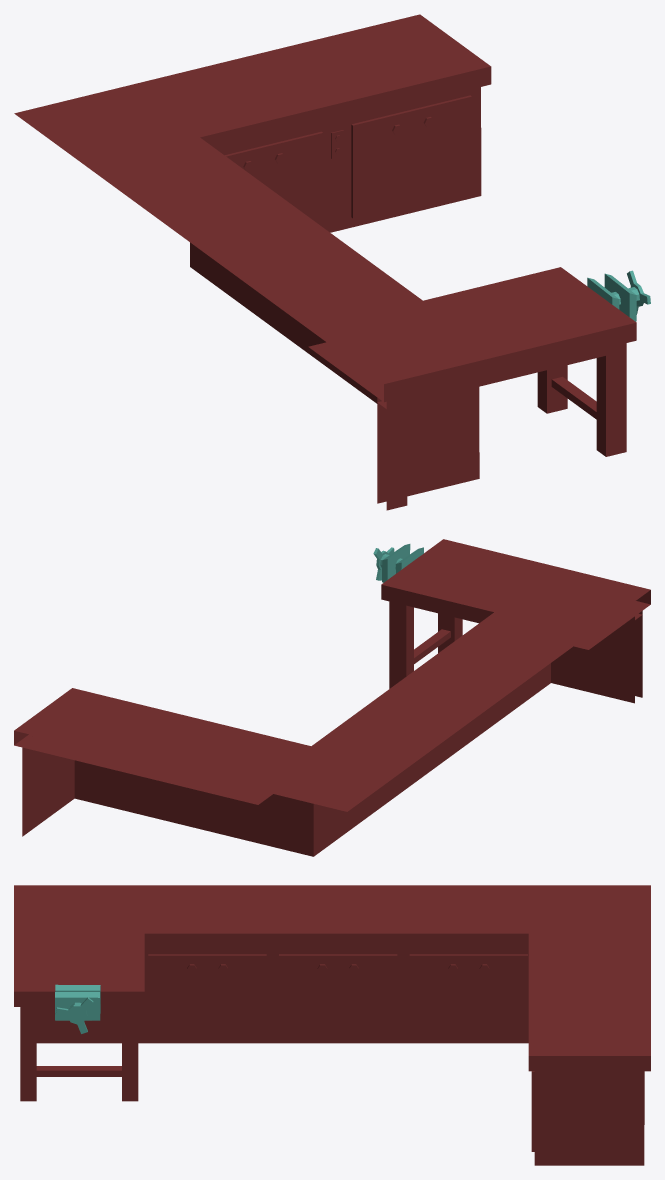
File: Mesa_Trabajo.fbx
3 views of the same model, one above another, from view 1: azimuth 30°, elevation 25°; view 2: azimuth 150°, elevation 25°; view 3: azimuth 270°, elevation 25° (orthographic). The views are drawn at different scales.
Parts seen in each view (by area): view 1: polySurface13, pCylinder267; view 2: polySurface13, pCylinder267; view 3: polySurface13, pCylinder267.
Part boxes in pixels (bbox=[...]): polySurface13: bbox=[14, 14, 636, 510]; pCylinder267: bbox=[587, 270, 650, 321]; polySurface13: bbox=[14, 539, 650, 856]; pCylinder267: bbox=[373, 544, 423, 582]; polySurface13: bbox=[14, 885, 650, 1165]; pCylinder267: bbox=[55, 984, 100, 1033].
Bounding box in the file's own units: 2.46 × 0.8209 × 3.88.
